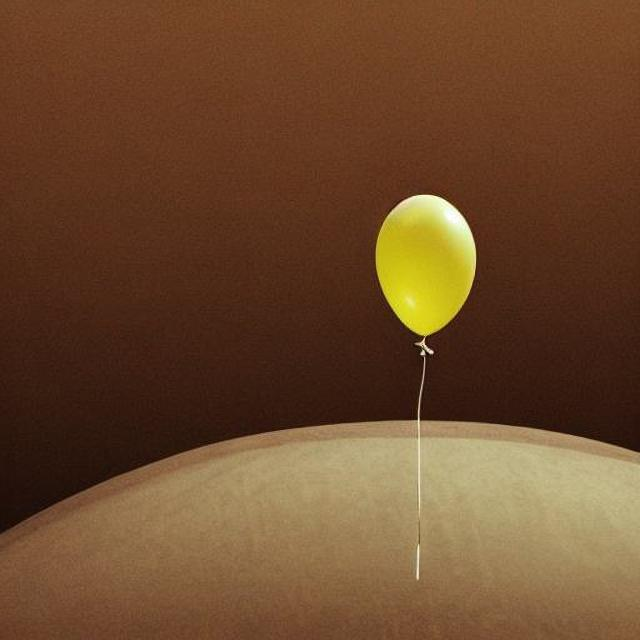balloon: (369, 191, 476, 344)
